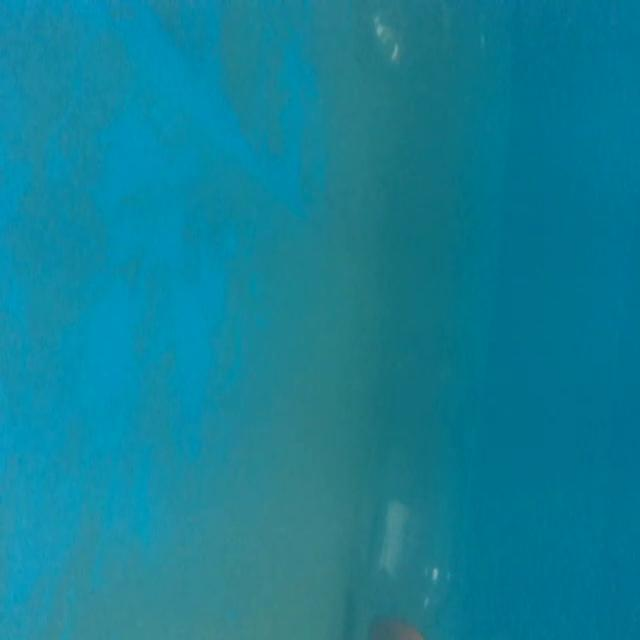plastic bottle: (365, 361, 464, 640)
